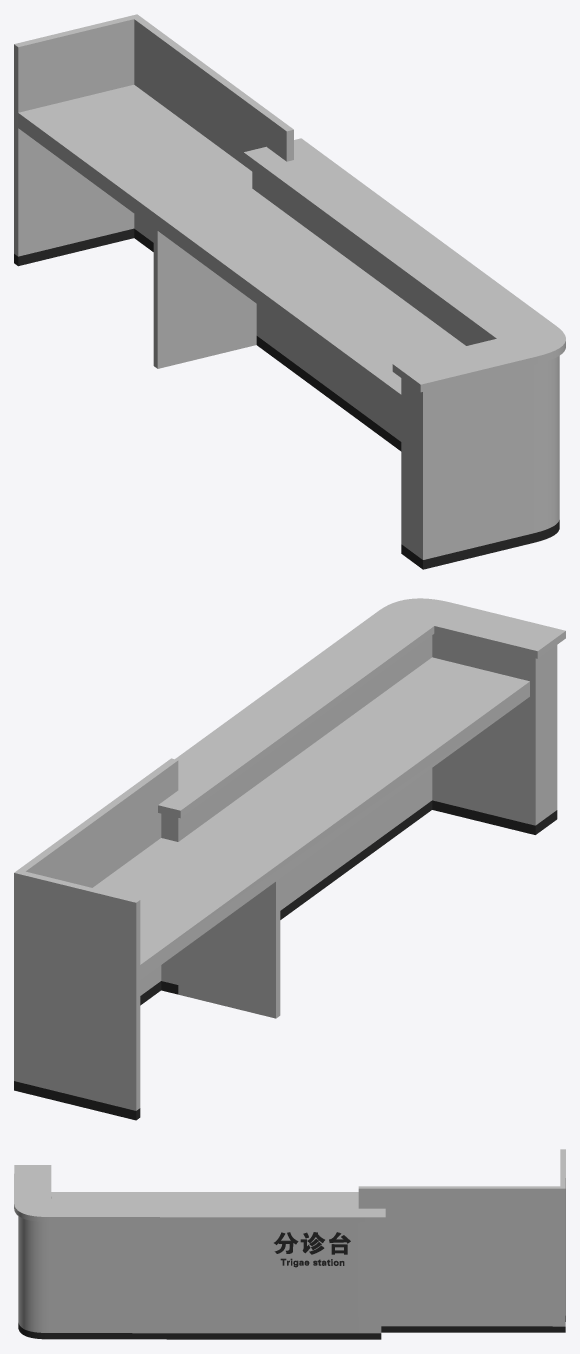
The model's file is fronttable.fbx.
The picture shows the model from 3 angles, top to bottom: view 1: azimuth 30°, elevation 25°; view 2: azimuth 150°, elevation 25°; view 3: azimuth 270°, elevation 25°; orthographic projection. The views are drawn at different scales.
Parts seen in each view (by area): view 1: fronttable; view 2: fronttable; view 3: fronttable.
Boxes of the visible parts, x1,y1,x2,y2 form: fronttable: (14, 14, 565, 569); fronttable: (14, 598, 565, 1120); fronttable: (14, 1149, 565, 1339).
Bounding box in the file's own units: 397 × 89.05 × 114.
